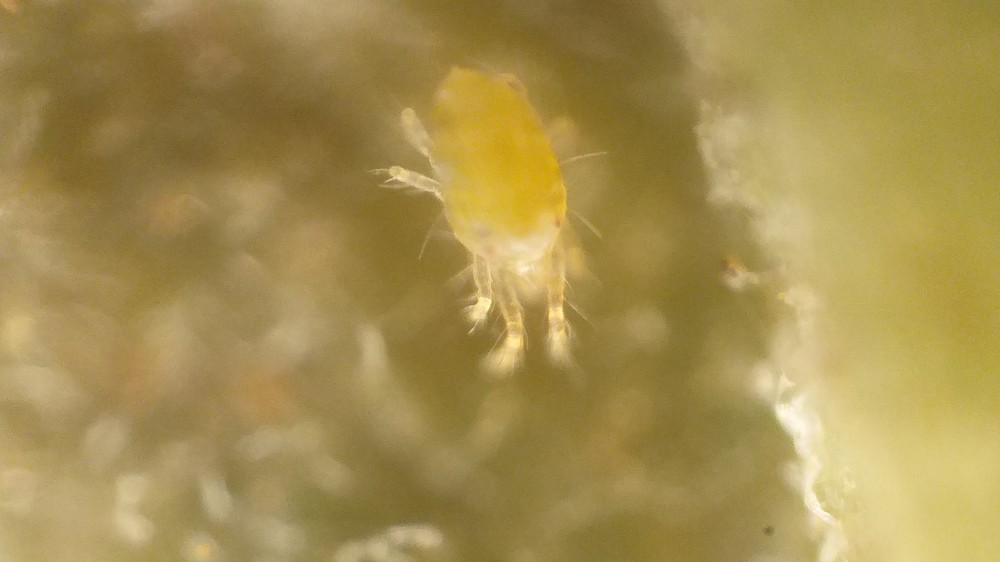Aracnido Rojo: (372, 61, 658, 378)
